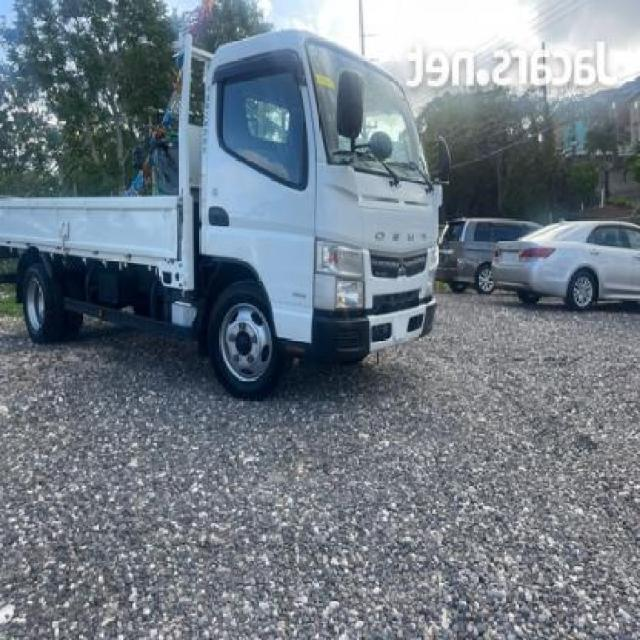truck: (2, 32, 454, 395)
